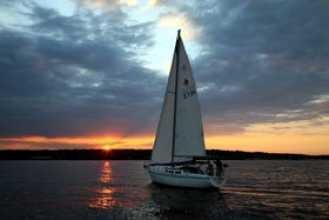fanchuan: (142, 24, 230, 188)
